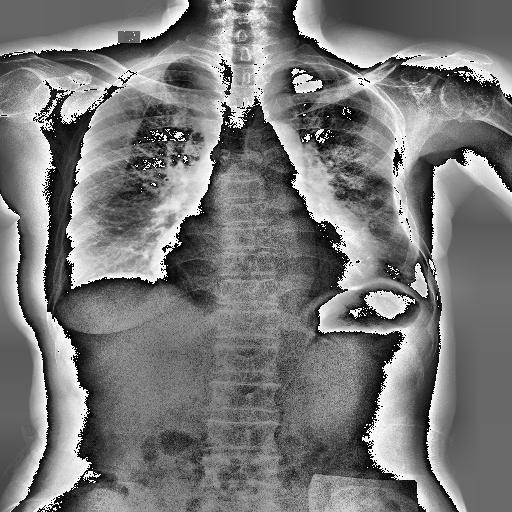0- Aortic enlargement: (239, 121, 309, 182), (252, 122, 307, 174)
11- Pleural thickening: (279, 58, 330, 80), (278, 64, 340, 78)
2- Calcification: (397, 263, 416, 283)
3- Cardiomegaly: (148, 224, 386, 298), (148, 219, 377, 288), (148, 234, 376, 296)
